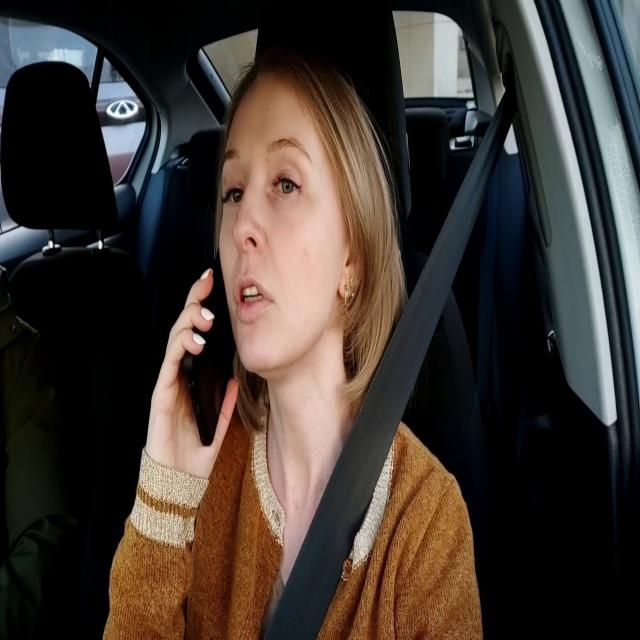phone: (180, 246, 238, 448)
